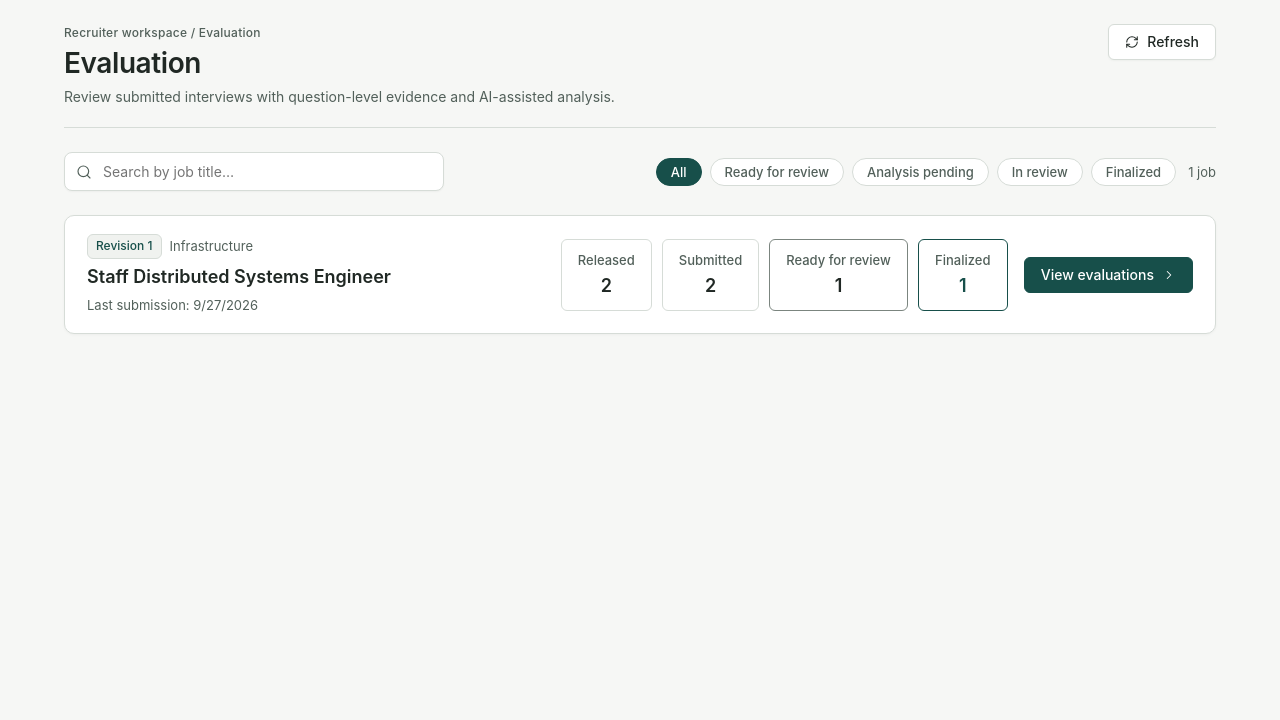
Phase 4C.4: Recruiter Evaluation Workspace & Candidate Feedback › opens finalization modal summarizing deterministic aggregate score and core question counts
Click the button "View evaluations" at (1108, 275), box [1024,257,1193,293]
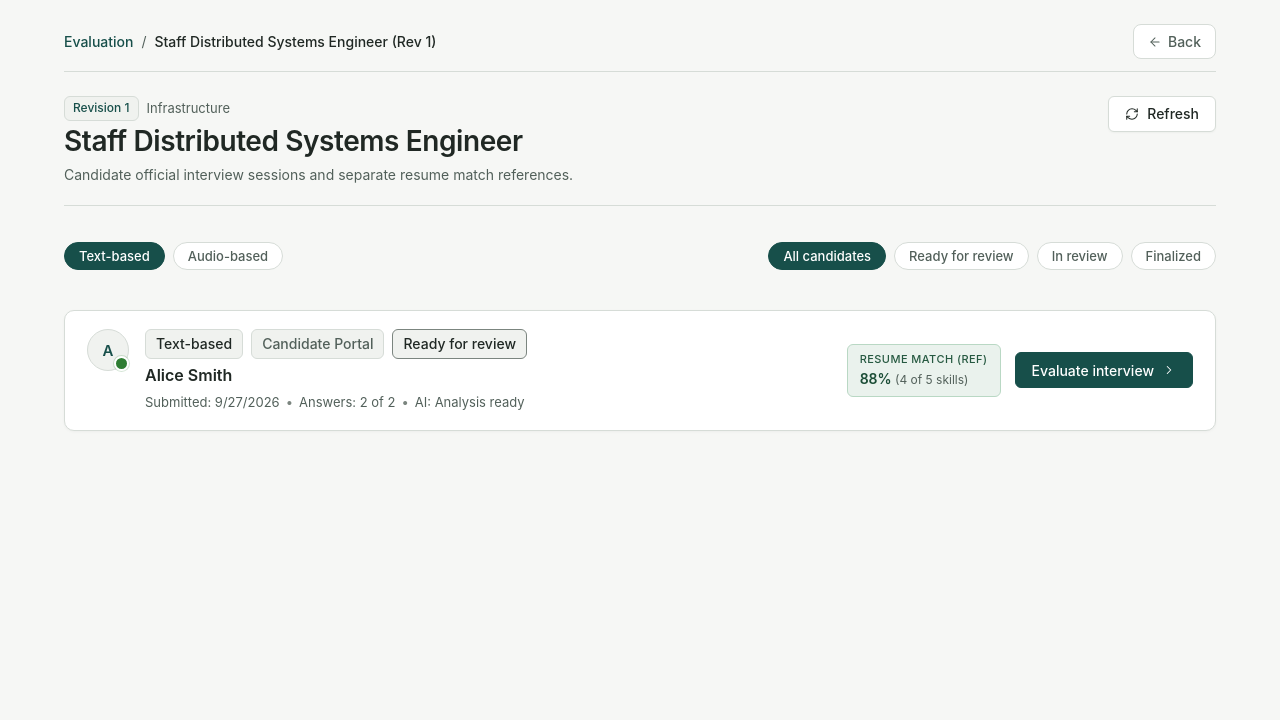
Click the button "Evaluate interview" at (1104, 370), box [1014,352,1193,388]
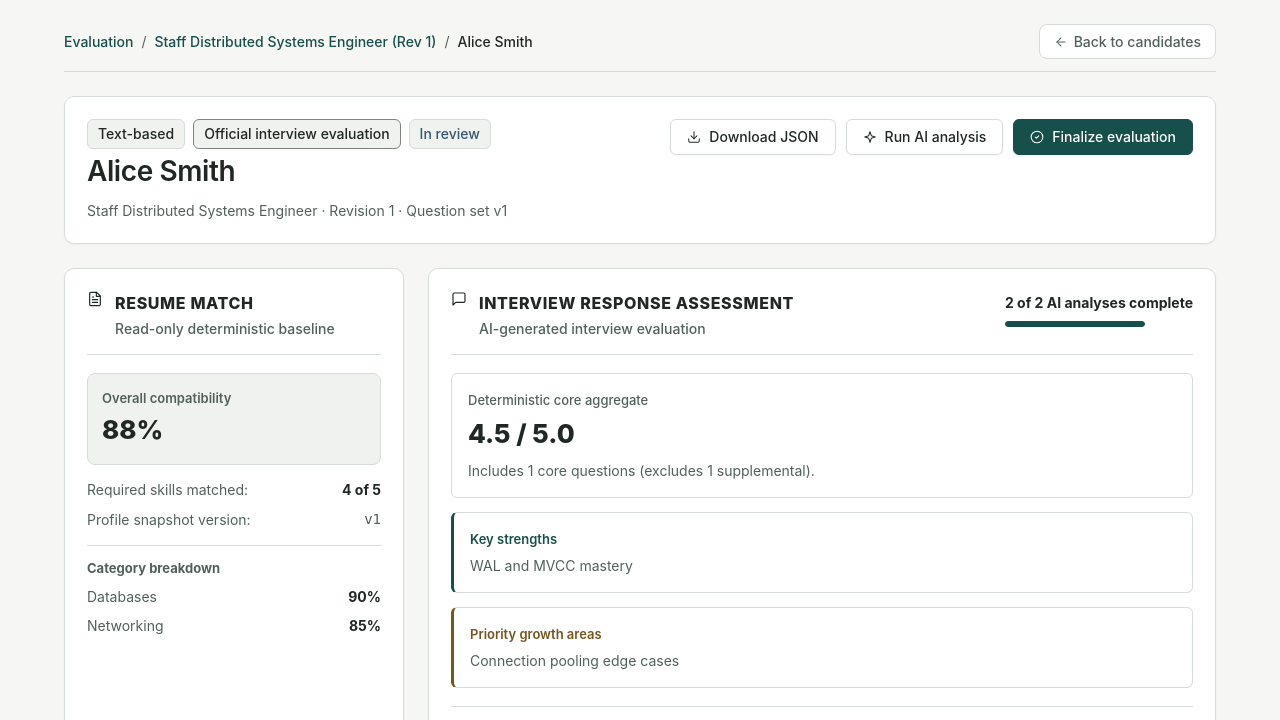
Click the button "Finalize evaluation" at (1103, 137), box [1013,119,1193,155]
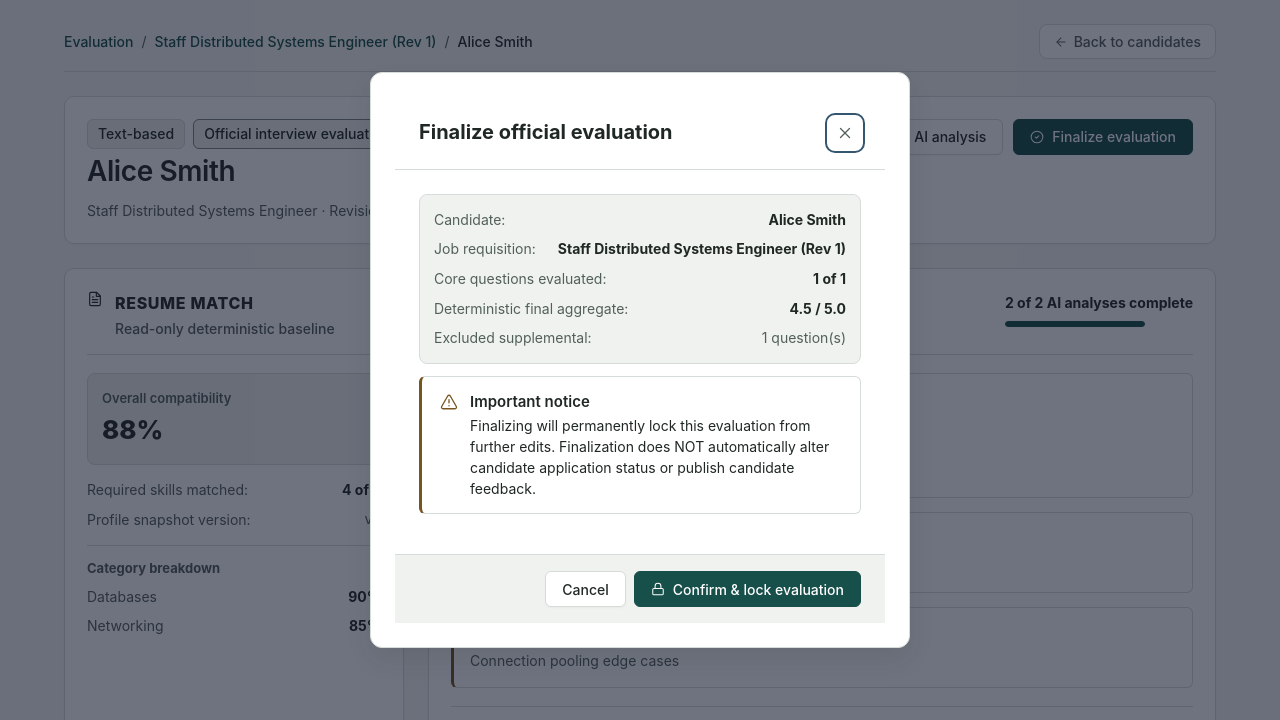
Now the heading "Finalize official evaluation" is shown, box [419,117,673,148]
Now the button "Confirm & lock evaluation" is shown, box [634,572,861,608]
Now the text "Finalizing will permanently lock this evaluation" is shown, box [470,418,829,498]
